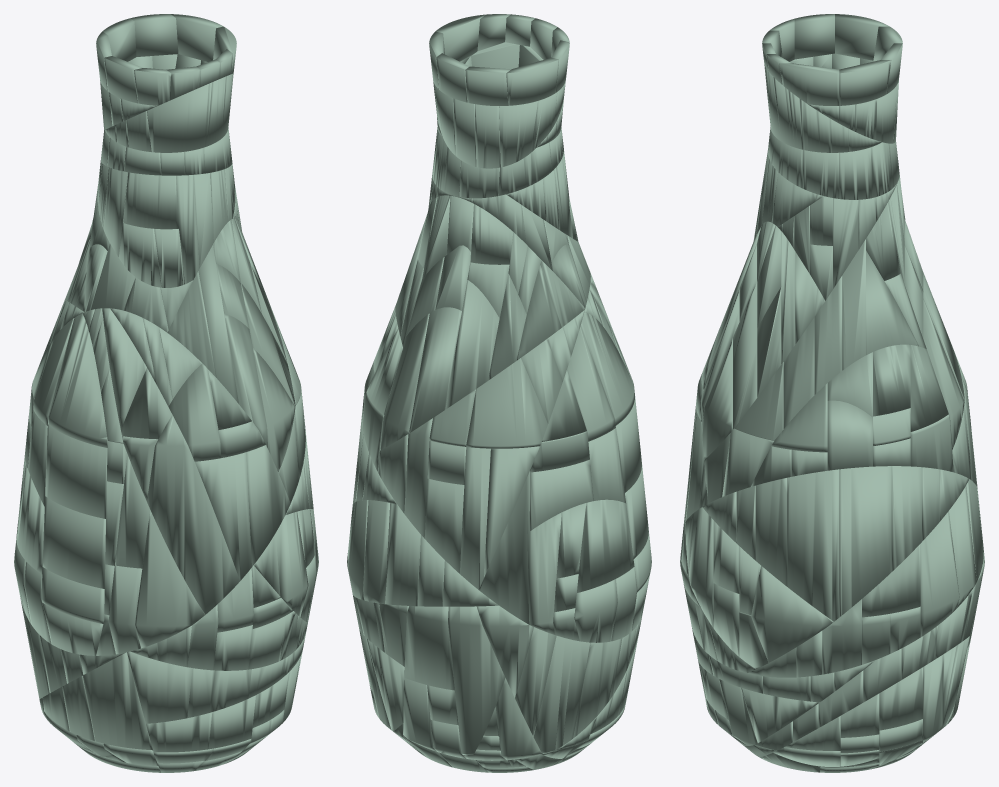
Rendered from collision-hulls.glb.
3 views of the same model, side by side, from view 1: azimuth 30°, elevation 25°; view 2: azimuth 150°, elevation 25°; view 3: azimuth 270°, elevation 25° (orthographic).
Visible parts, largest first — view 1: fragment-024-hull-00, fragment-011-hull-00, fragment-007-hull-00, fragment-017-hull-00, fragment-007-hull-02, fragment-007-hull-01, fragment-025-hull-07, fragment-025-hull-06, fragment-023-hull-06, fragment-009-hull-04, fragment-025-hull-02, fragment-026-hull-00 (+78 smaller); view 2: fragment-015-hull-08, fragment-005-hull-08, fragment-014-hull-04, fragment-029-hull-04, fragment-000-hull-00, fragment-006-hull-08, fragment-006-hull-05, fragment-015-hull-00, fragment-005-hull-09, fragment-005-hull-10, fragment-029-hull-00, fragment-028-hull-04 (+80 smaller); view 3: fragment-003-hull-03, fragment-003-hull-04, fragment-026-hull-03, fragment-001-hull-06, fragment-003-hull-02, fragment-012-hull-03, fragment-003-hull-05, fragment-013-hull-06, fragment-004-hull-01, fragment-013-hull-05, fragment-026-hull-00, fragment-012-hull-05 (+91 smaller).
Part boxes in pixels (left/top/right/bottom): fragment-024-hull-00: left=147, top=415, right=239, bottom=614; fragment-011-hull-00: left=135, top=510, right=204, bottom=648; fragment-007-hull-00: left=48, top=313, right=107, bottom=447; fragment-017-hull-00: left=82, top=652, right=152, bottom=750; fragment-007-hull-02: left=42, top=496, right=105, bottom=588; fragment-007-hull-01: left=45, top=424, right=107, bottom=518; fragment-025-hull-07: left=195, top=452, right=251, bottom=580; fragment-025-hull-06: left=246, top=445, right=290, bottom=566; fragment-023-hull-06: left=127, top=651, right=192, bottom=723; fragment-009-hull-04: left=147, top=84, right=208, bottom=152; fragment-025-hull-02: left=168, top=363, right=221, bottom=461; fragment-026-hull-00: left=254, top=511, right=308, bottom=616; fragment-015-hull-08: left=448, top=606, right=505, bottom=755; fragment-005-hull-08: left=466, top=358, right=547, bottom=448; fragment-014-hull-04: left=533, top=636, right=590, bottom=753; fragment-029-hull-04: left=577, top=499, right=634, bottom=592; fragment-000-hull-00: left=478, top=471, right=529, bottom=624; fragment-006-hull-08: left=445, top=280, right=499, bottom=409; fragment-006-hull-05: left=409, top=307, right=461, bottom=433; fragment-015-hull-00: left=404, top=606, right=454, bottom=690; fragment-005-hull-09: left=460, top=447, right=490, bottom=589; fragment-005-hull-10: left=484, top=446, right=539, bottom=576; fragment-029-hull-00: left=529, top=512, right=561, bottom=634; fragment-028-hull-04: left=529, top=459, right=593, bottom=531; fragment-003-hull-03: left=787, top=469, right=839, bottom=621; fragment-003-hull-04: left=839, top=466, right=891, bottom=617; fragment-026-hull-03: left=751, top=566, right=833, bottom=662; fragment-001-hull-06: left=920, top=511, right=959, bottom=636; fragment-003-hull-02: left=755, top=478, right=787, bottom=586; fragment-012-hull-03: left=827, top=400, right=872, bottom=470; fragment-003-hull-05: left=891, top=466, right=921, bottom=571; fragment-013-hull-06: left=866, top=250, right=918, bottom=355; fragment-004-hull-01: left=733, top=281, right=757, bottom=429; fragment-013-hull-05: left=842, top=239, right=865, bottom=370; fragment-026-hull-00: left=685, top=507, right=713, bottom=627; fragment-012-hull-05: left=873, top=344, right=910, bottom=416.
Bounding box in the file's own units: 0.104 × 0.26 × 0.104.
